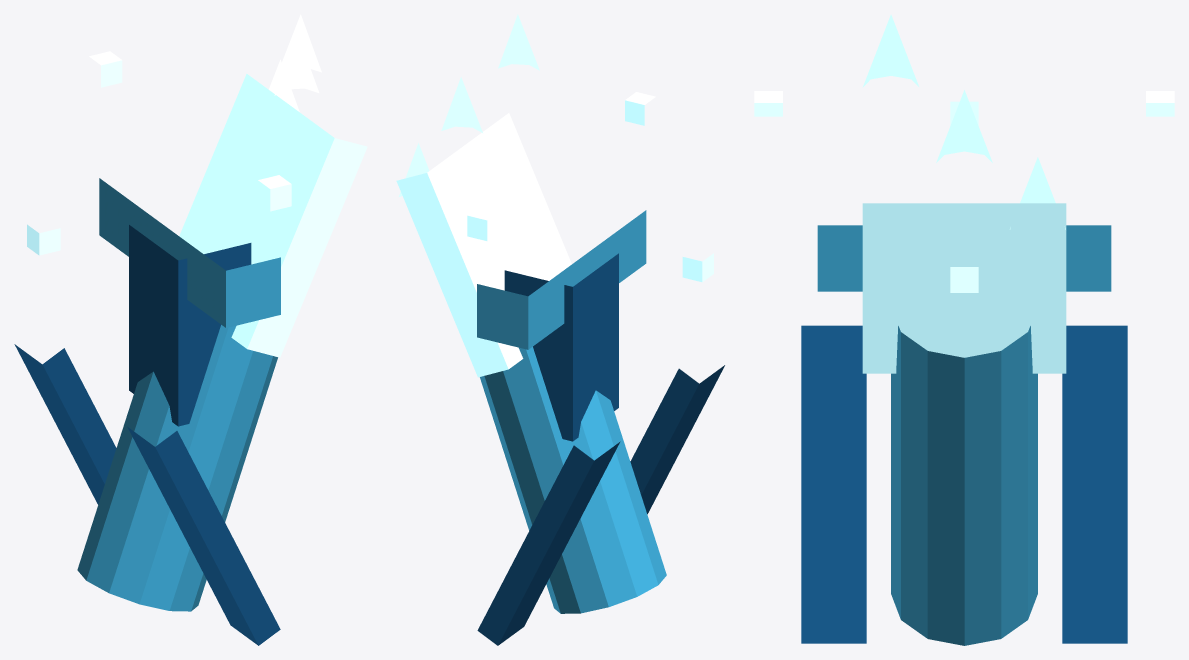
File: morphling.glb
3 renders of one model, left to right at view 1: azimuth 30°, elevation 25°; view 2: azimuth 150°, elevation 25°; view 3: azimuth 270°, elevation 25°, orthographic. The views are drawn at different scales.
Parts seen in each view (by area): view 1: morphling-wave-body, morphling-crest-wave, morphling-replacement-torso, morphling-ripple-l, morphling-replacement-shoulders, morphling-ripple-r, morphling-droplet-2, morphling-flair-mote-2, morphling-droplet-1, morphling-flair-mote-3, morphling-flair-mote-1; view 2: morphling-wave-body, morphling-crest-wave, morphling-replacement-torso, morphling-ripple-r, morphling-replacement-shoulders, morphling-ripple-l, morphling-droplet-2, morphling-droplet-1, morphling-flair-mote-2, morphling-flair-mote-3, morphling-flair-mote-1; view 3: morphling-wave-body, morphling-crest-wave, morphling-ripple-l, morphling-ripple-r, morphling-replacement-shoulders, morphling-droplet-1, morphling-droplet-2, morphling-droplet-0, morphling-flair-mote-0, morphling-flair-mote-1, morphling-flair-mote-3.
Boxes of the visible parts, left/top/right/bottom form: morphling-wave-body: left=77, top=325, right=277, bottom=611; morphling-crest-wave: left=179, top=74, right=367, bottom=357; morphling-replacement-torso: left=129, top=225, right=251, bottom=426; morphling-ripple-l: left=127, top=426, right=280, bottom=645; morphling-replacement-shoulders: left=99, top=178, right=280, bottom=327; morphling-ripple-r: left=14, top=344, right=116, bottom=504; morphling-droplet-2: left=277, top=14, right=321, bottom=74; morphling-flair-mote-2: left=27, top=224, right=60, bottom=255; morphling-droplet-1: left=274, top=67, right=319, bottom=95; morphling-flair-mote-3: left=89, top=51, right=122, bottom=87; morphling-flair-mote-1: left=258, top=175, right=291, bottom=211; morphling-wave-body: left=480, top=347, right=666, bottom=613; morphling-crest-wave: left=396, top=113, right=571, bottom=377; morphling-replacement-torso: left=504, top=253, right=618, bottom=441; morphling-ripple-r: left=477, top=441, right=620, bottom=645; morphling-replacement-shoulders: left=477, top=210, right=646, bottom=349; morphling-ripple-l: left=630, top=365, right=724, bottom=514; morphling-droplet-2: left=498, top=14, right=539, bottom=70; morphling-droplet-1: left=441, top=77, right=482, bottom=132; morphling-flair-mote-2: left=682, top=253, right=713, bottom=282; morphling-flair-mote-3: left=467, top=207, right=498, bottom=240; morphling-flair-mote-1: left=625, top=92, right=655, bottom=125; morphling-wave-body: left=891, top=326, right=1037, bottom=645; morphling-crest-wave: left=862, top=203, right=1066, bottom=373; morphling-ripple-l: left=801, top=325, right=866, bottom=643; morphling-ripple-r: left=1062, top=325, right=1127, bottom=643; morphling-replacement-shoulders: left=817, top=225, right=1111, bottom=291; morphling-droplet-1: left=936, top=90, right=992, bottom=162; morphling-droplet-2: left=862, top=14, right=918, bottom=87; morphling-droplet-0: left=1009, top=157, right=1065, bottom=229; morphling-flair-mote-0: left=950, top=267, right=978, bottom=292; morphling-flair-mote-1: left=754, top=91, right=782, bottom=116; morphling-flair-mote-3: left=1146, top=91, right=1174, bottom=116.
Bounding box in the file's own units: 1.03 × 1.83 × 1.03.
